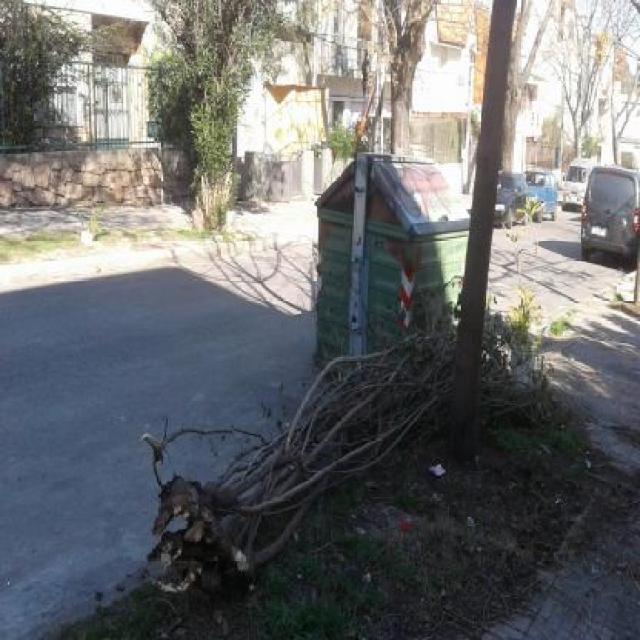garbage: (422, 453, 460, 500), (77, 229, 98, 250)
